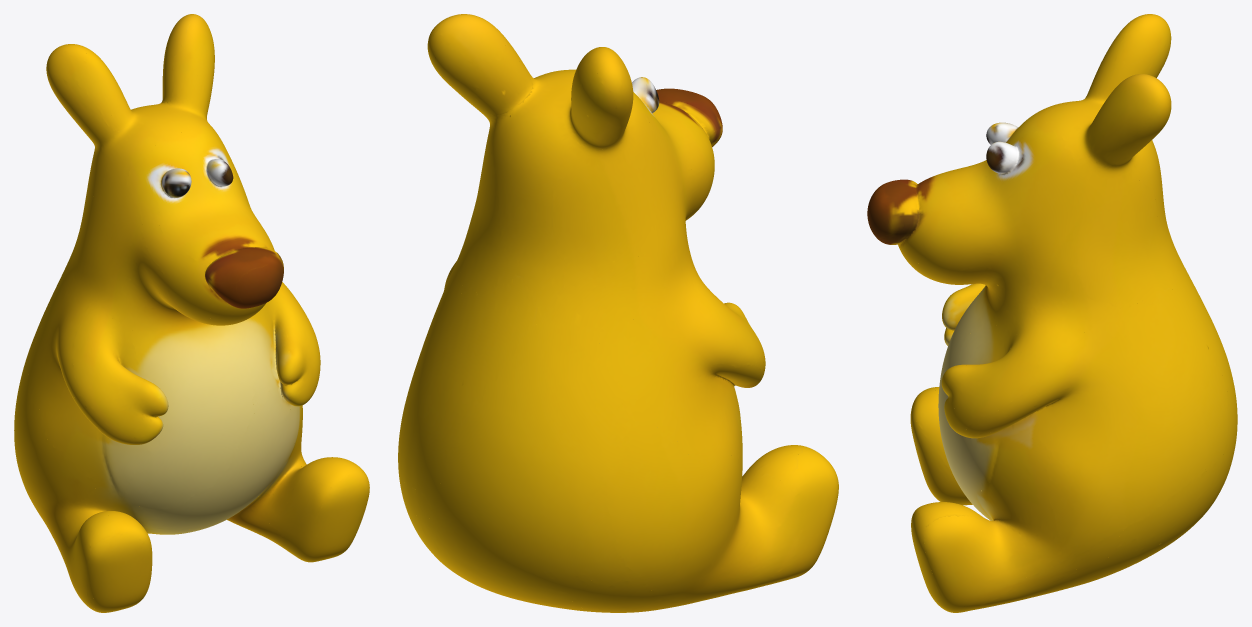
File: feidudu.glb
The picture shows the model from 3 angles, left to right: view 1: azimuth 30°, elevation 25°; view 2: azimuth 150°, elevation 25°; view 3: azimuth 270°, elevation 25°; orthographic projection. The views are drawn at different scales.
Parts seen in each view (by area): view 1: feidudu; view 2: feidudu; view 3: feidudu.
Part boxes in pixels (box(x1,y1,x2,y2)): feidudu: box(14, 14, 369, 612); feidudu: box(398, 14, 838, 612); feidudu: box(867, 14, 1237, 612).
Bounding box in the file's own units: 1.35 × 2.2 × 1.45.
Materials: 1 (1 with a texture image).
